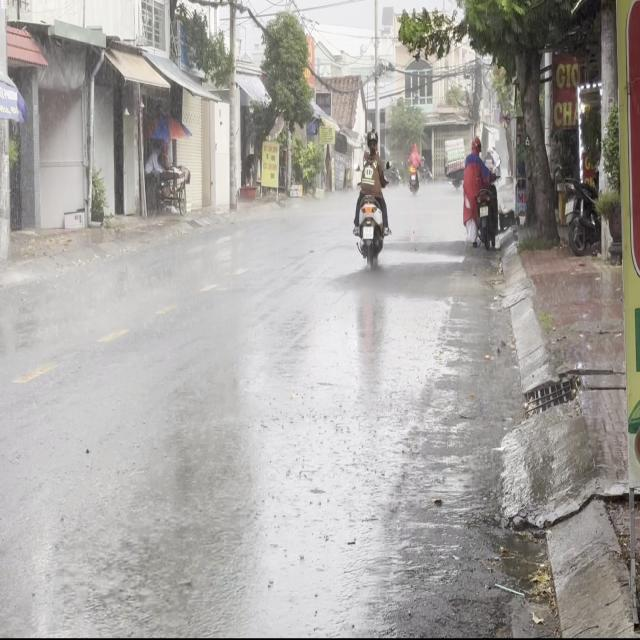licenseplate: (351, 128, 389, 266)
nohelmet: (363, 226, 373, 239)
